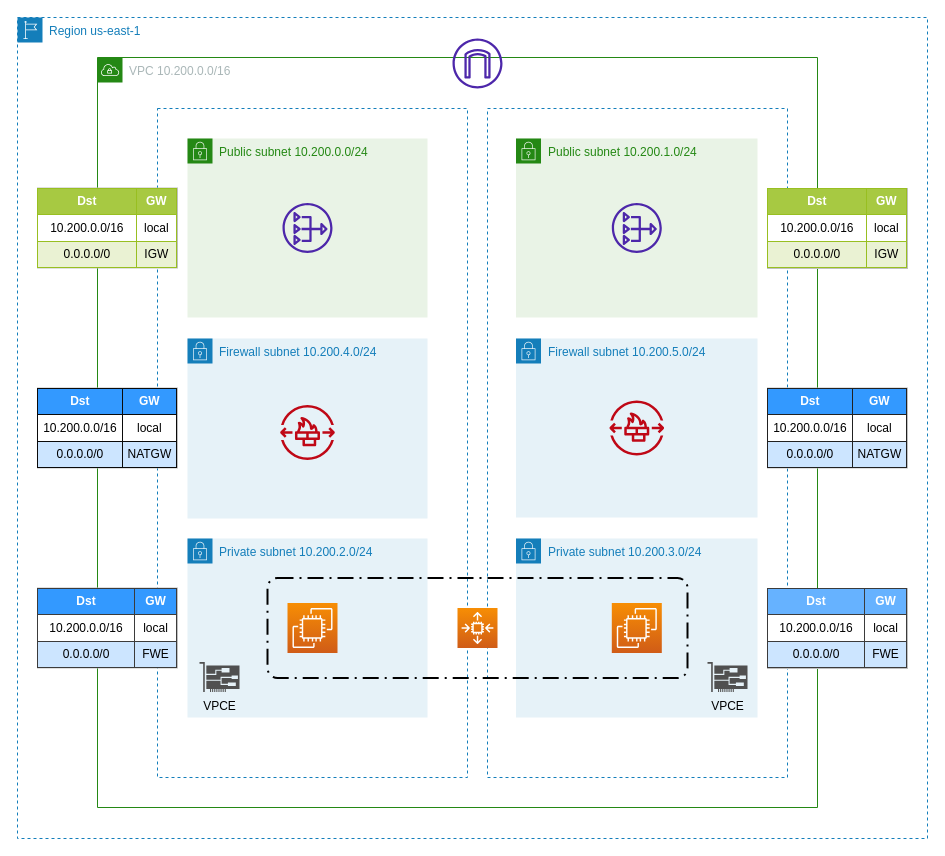
Some shapes in this 945 by 856 pixel diagram are drawn without their labels. The box of each missing label's shape, as (x1, y1, x2, y2) in pixels:
Availability Zone us-east-1a: (156, 108, 468, 778)
Availability Zone us-east-1b: (486, 108, 788, 778)
